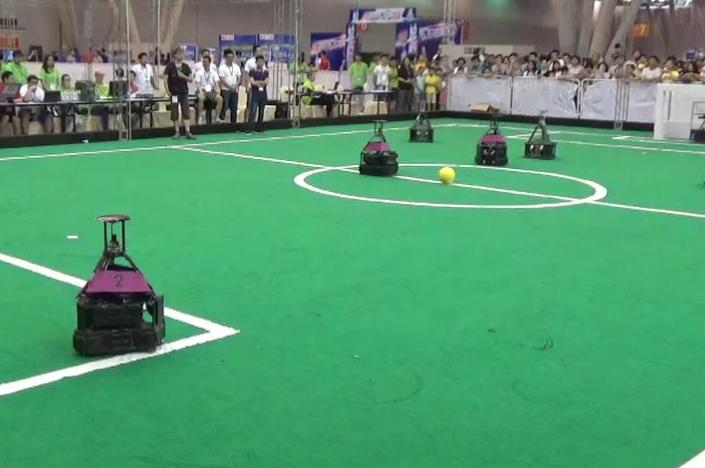robot: (70, 210, 172, 354), (358, 117, 402, 177), (472, 113, 512, 168), (522, 107, 558, 160), (408, 103, 436, 144)
